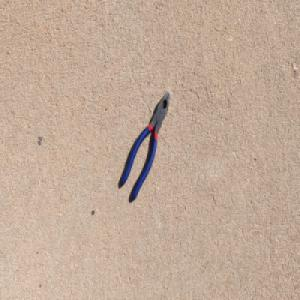Pliers: (120, 88, 171, 201)
